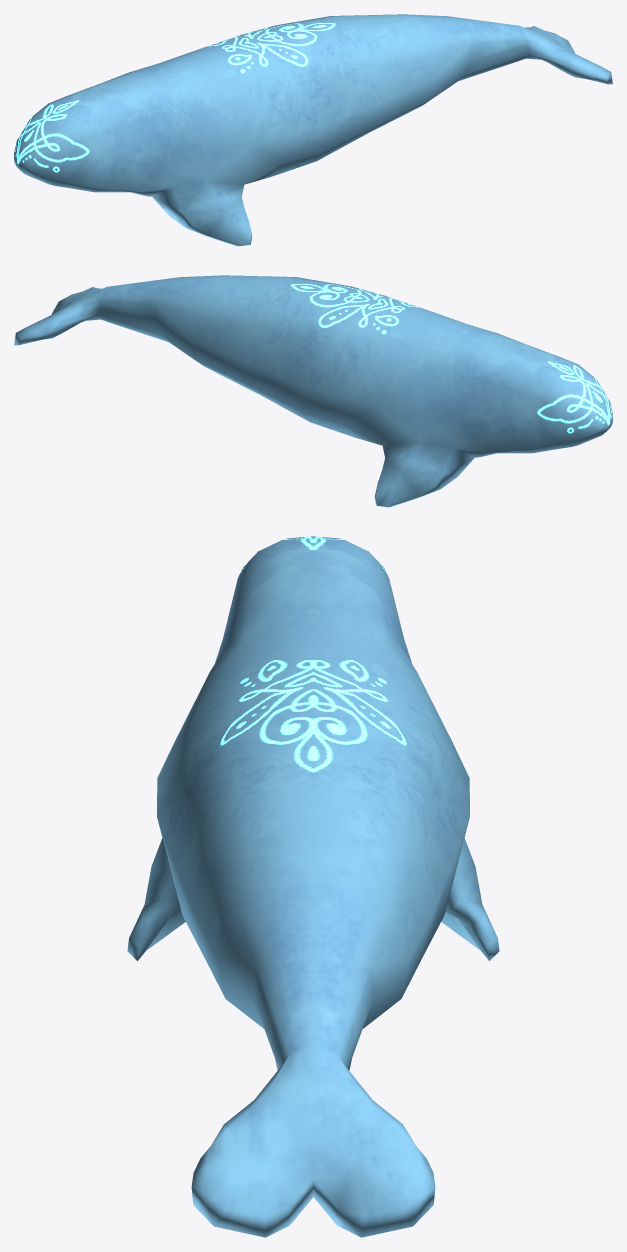
The model's file is Hazel.glb.
The picture shows the model from 3 angles, top to bottom: view 1: azimuth 30°, elevation 25°; view 2: azimuth 150°, elevation 25°; view 3: azimuth 270°, elevation 25°; orthographic projection. The views are drawn at different scales.
Visible parts, largest first — view 1: Hazel; view 2: Hazel; view 3: Hazel.
Part boxes in pixels (x1,y1,x2,y2): Hazel: (14,14,612,246); Hazel: (14,275,612,507); Hazel: (127,536,499,1237).
Bounding box in the file's own units: 9.79 × 2.64 × 2.76.
Materials: 1 (1 with a texture image).
